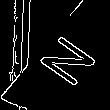N_NW: (19, 24, 91, 86)
